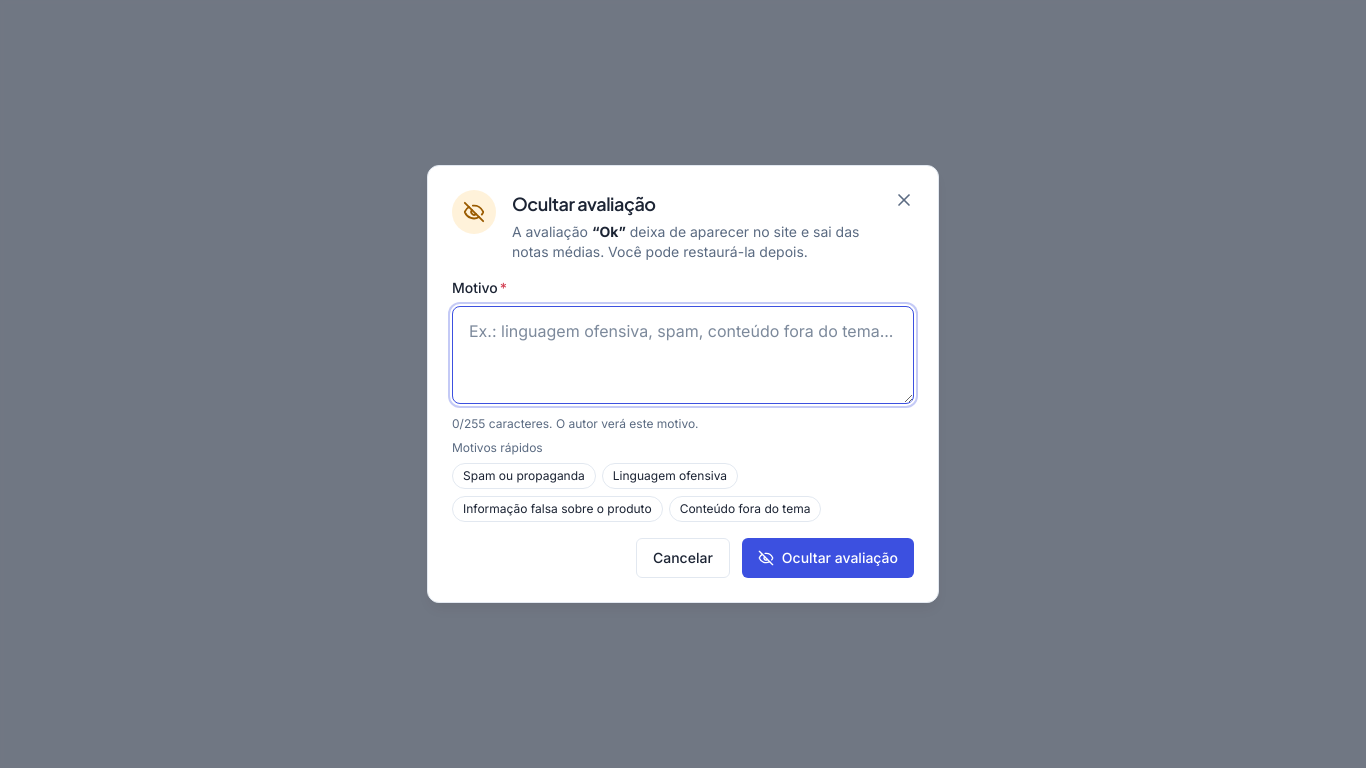
Test case: HideReviewModal (modal de motivo) › exige o motivo e mostra o erro ligado ao campo
Check: the dialog "Ocultar avaliação" shows "“Ok”", box [427,165,939,603]
Click the button "Ocultar avaliação": (828,558) [742,538,914,578]
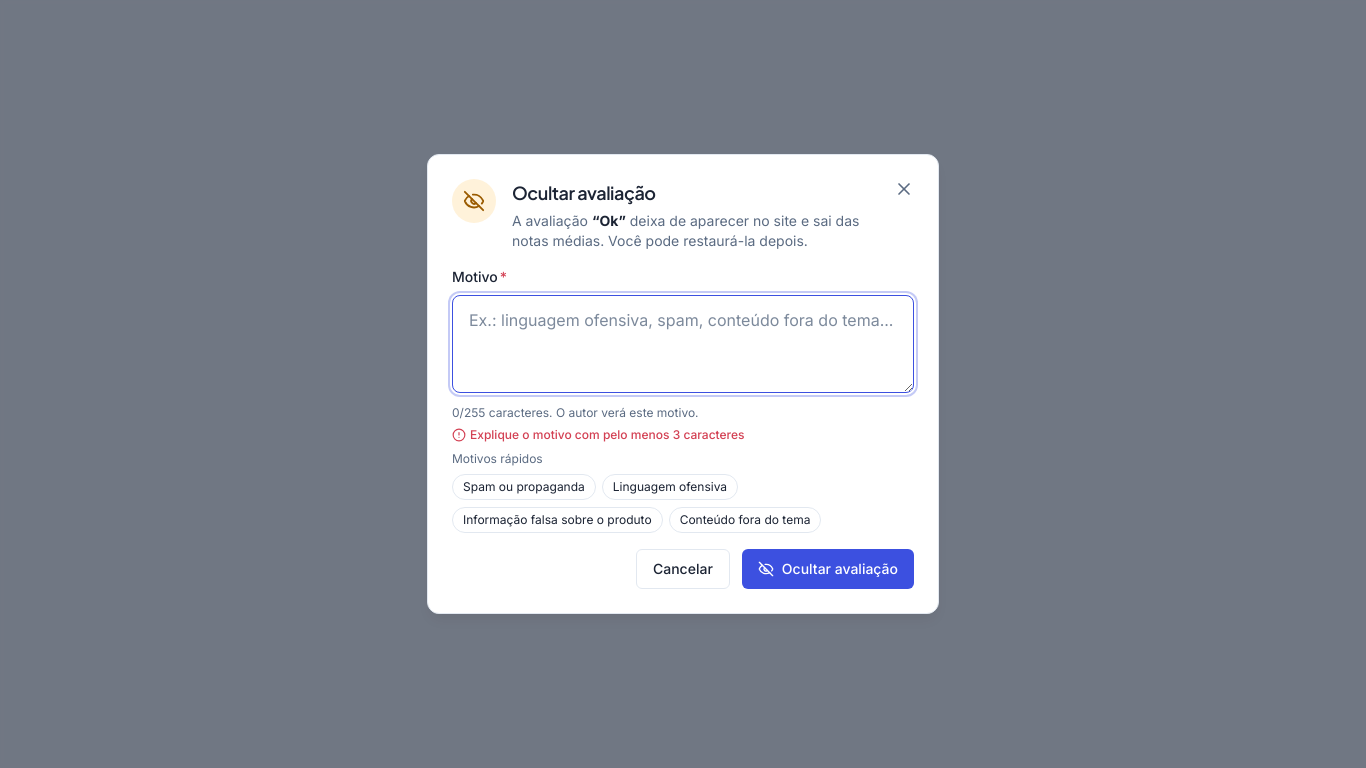
Check: the text "Explique o motivo com pelo menos 3 caracteres" is shown, box [452,427,744,442]
